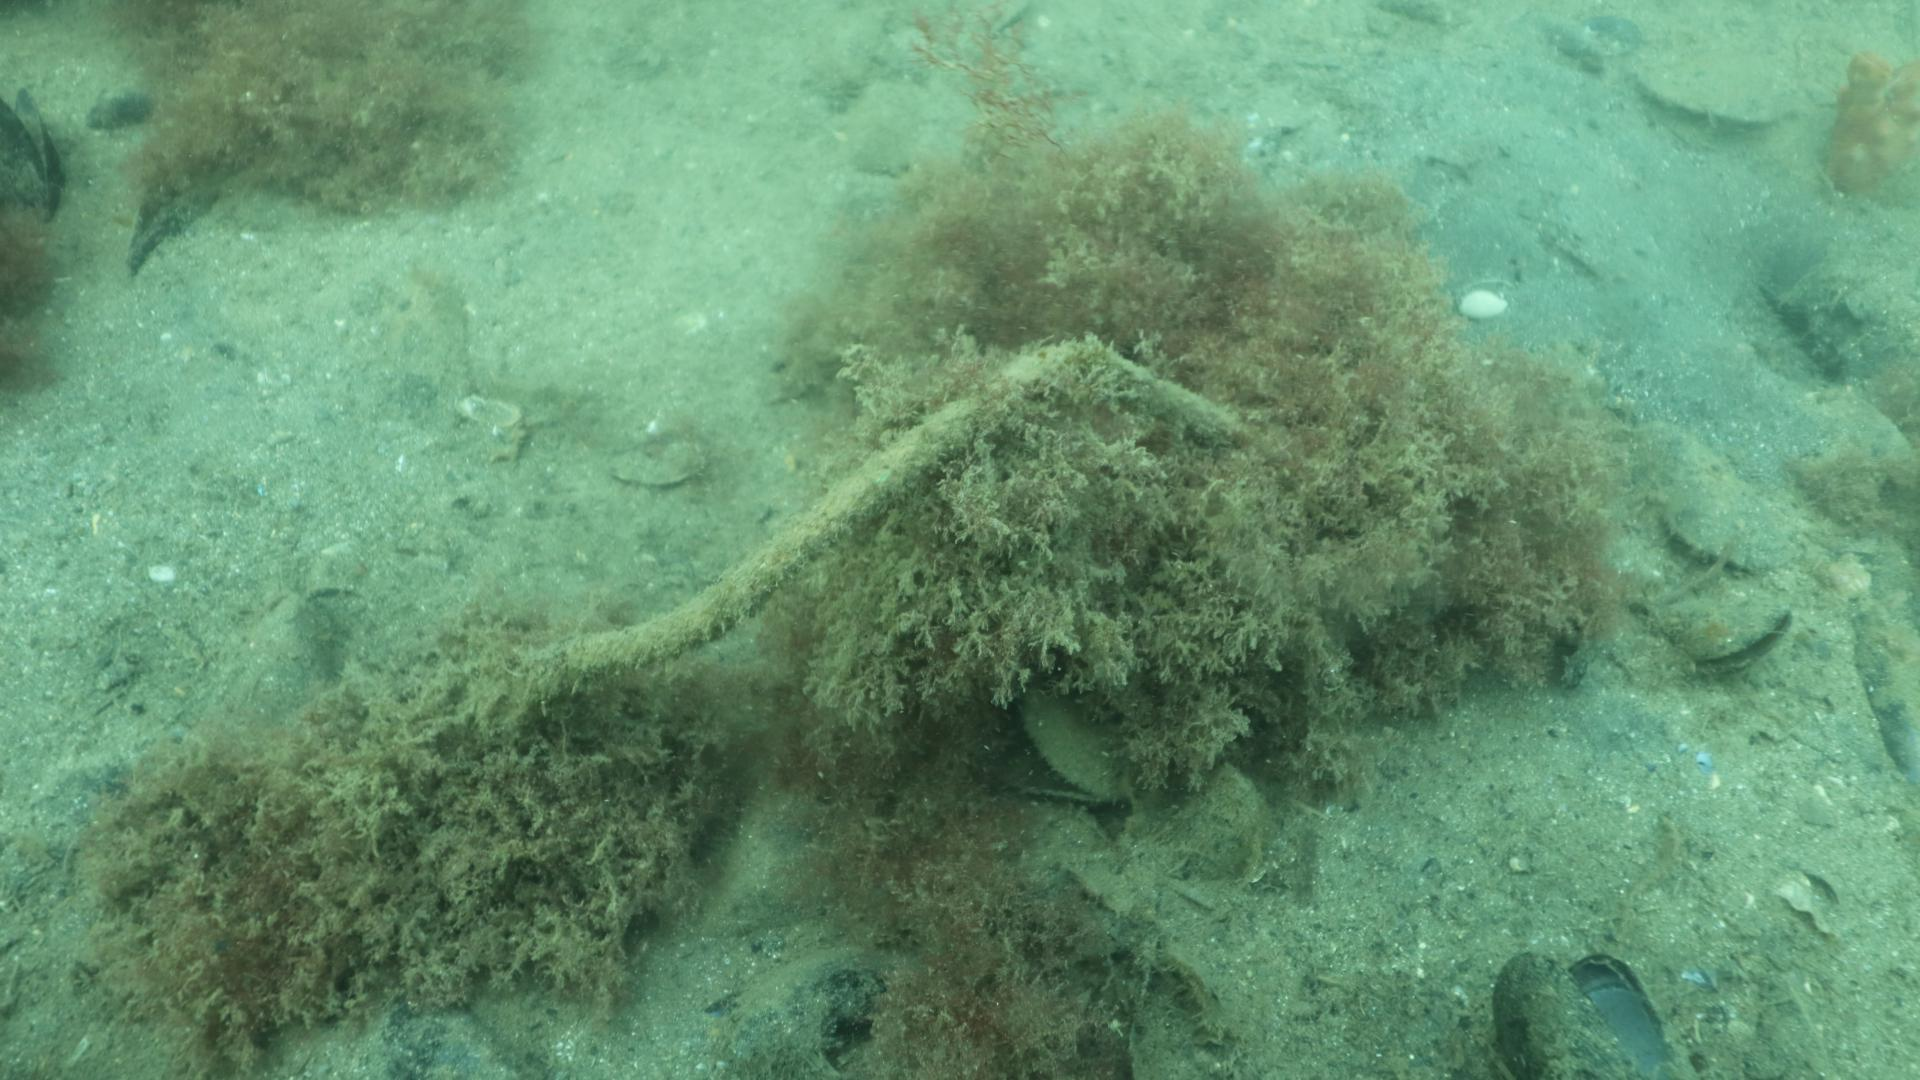rope: (516, 338, 1229, 684)
